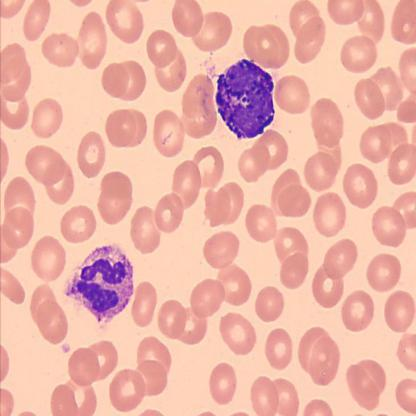Basophil: (212, 56, 277, 143)
